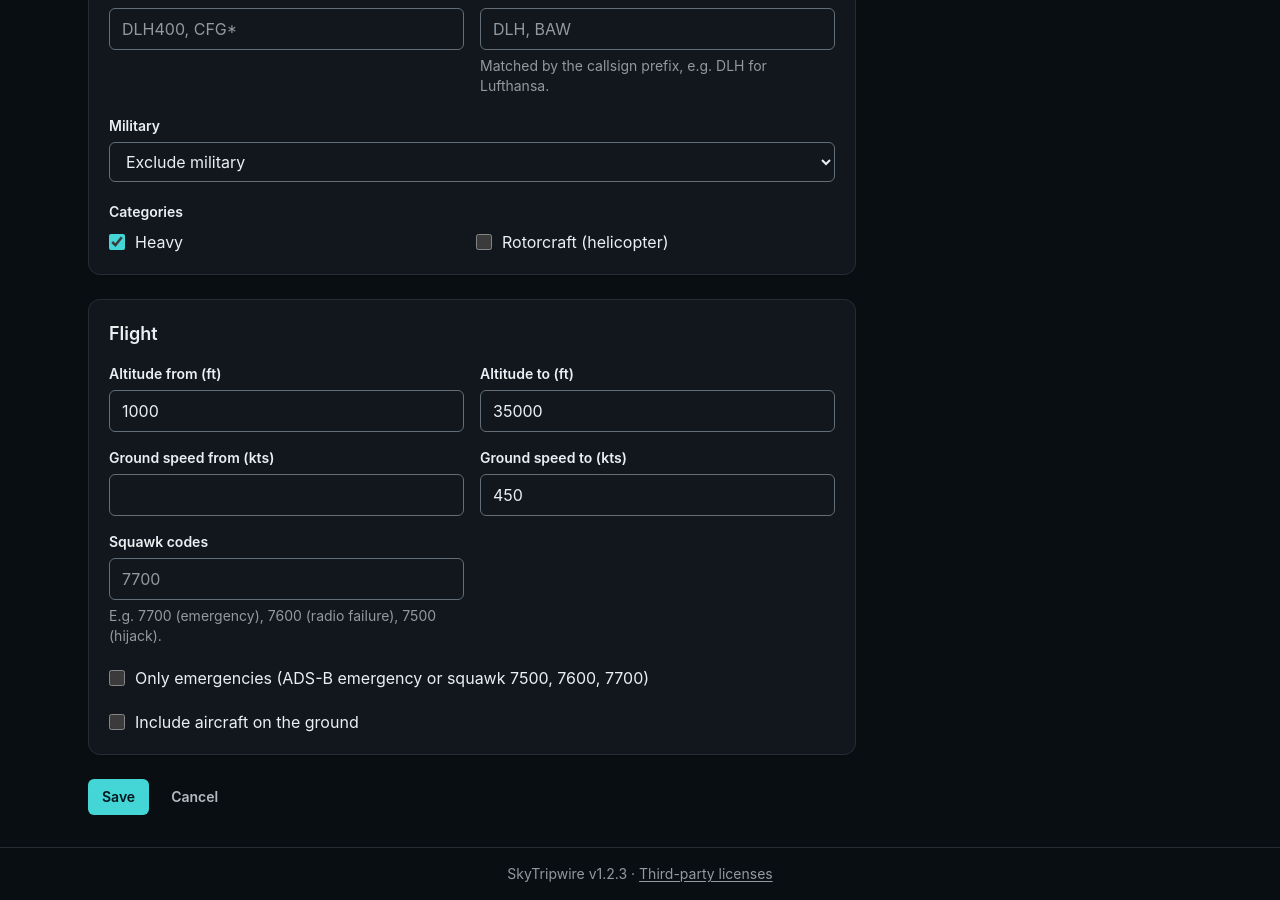
it: filter editor › loads a stored filter and saves it unchanged
(page scrolled)
Click the button "Save". click: [119, 797]
box: [88,779,149,815]
(page scrolled)
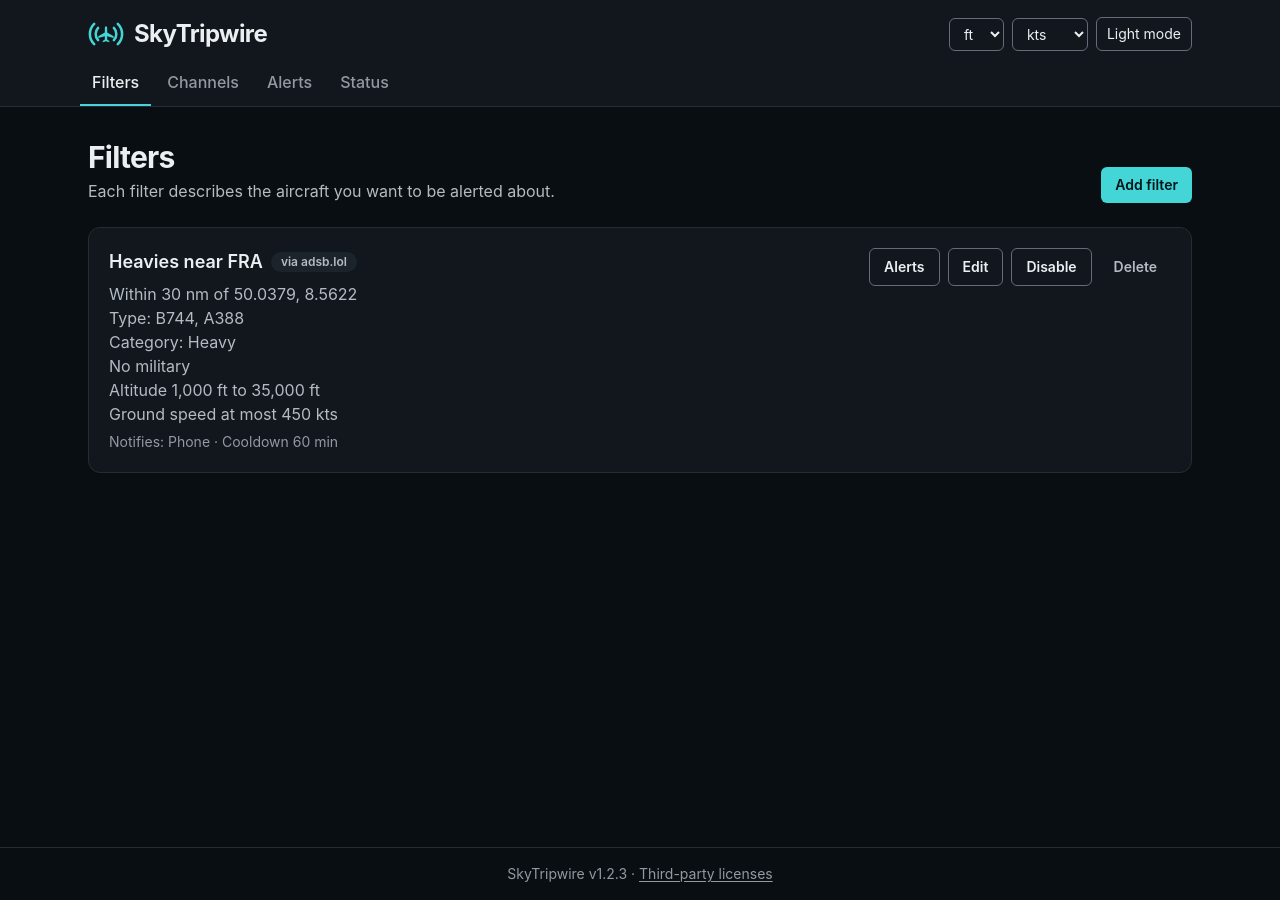
Result: the heading "Filters" is shown at [88,139,175,175]
